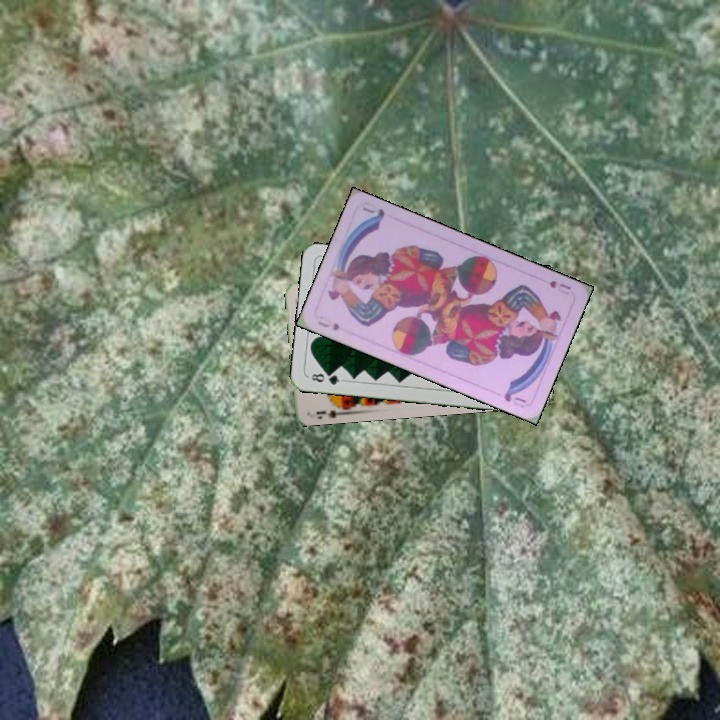G8: (305, 369, 346, 388)
S9: (312, 399, 349, 420)
SU: (545, 276, 574, 298), (313, 312, 342, 333)
